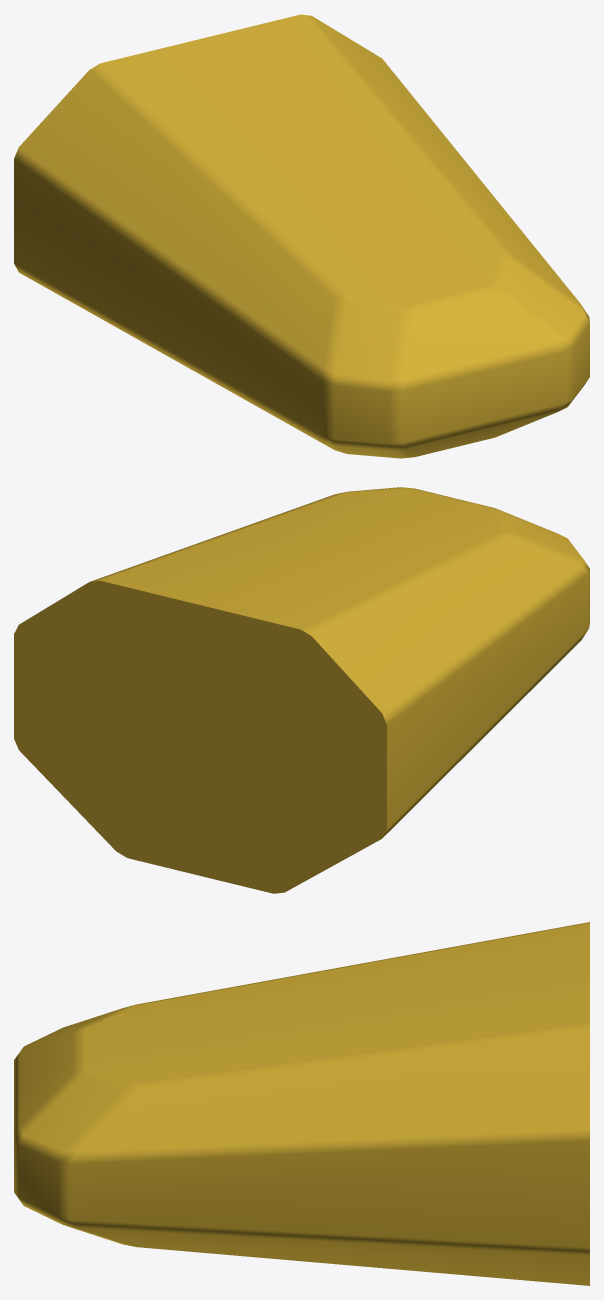
File: Lowpoly_Nose_Long.fbx
3 views of the same model, one above another, from view 1: azimuth 30°, elevation 25°; view 2: azimuth 150°, elevation 25°; view 3: azimuth 270°, elevation 25° (orthographic).
Parts seen in each view (by area): view 1: Cockpit.001; view 2: Cockpit.001; view 3: Cockpit.001.
Boxes of the visible parts, <box> form: Cockpit.001: <box>14,14,589,458</box>; Cockpit.001: <box>14,487,589,893</box>; Cockpit.001: <box>14,922,589,1285</box>.
Size of the model in its own units: 200 by 139 by 263.
